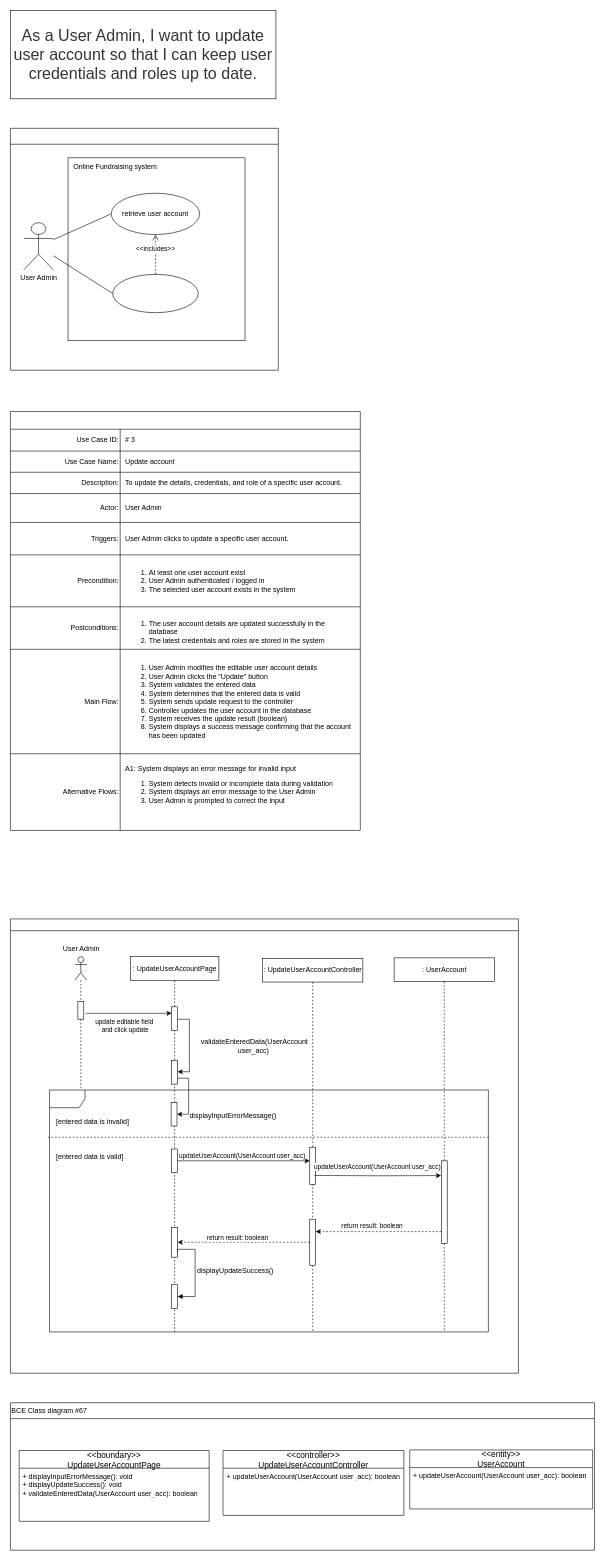
This 605x1561 diagram has some shape labels left out. Each missing label, with the box of its shape:
alt: (49, 1089, 488, 1332)
BCE sequence diagram #66: (10, 918, 518, 1373)
update our account: (112, 274, 198, 313)
Use-Case Description # 65: (10, 411, 360, 830)
Use-Case Diagram #64: (10, 128, 278, 370)
